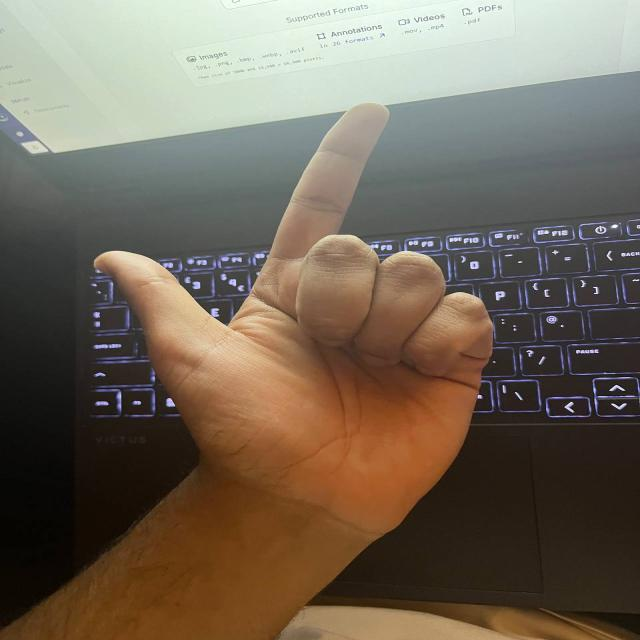hand thumb and index out: (97, 102, 544, 527)
